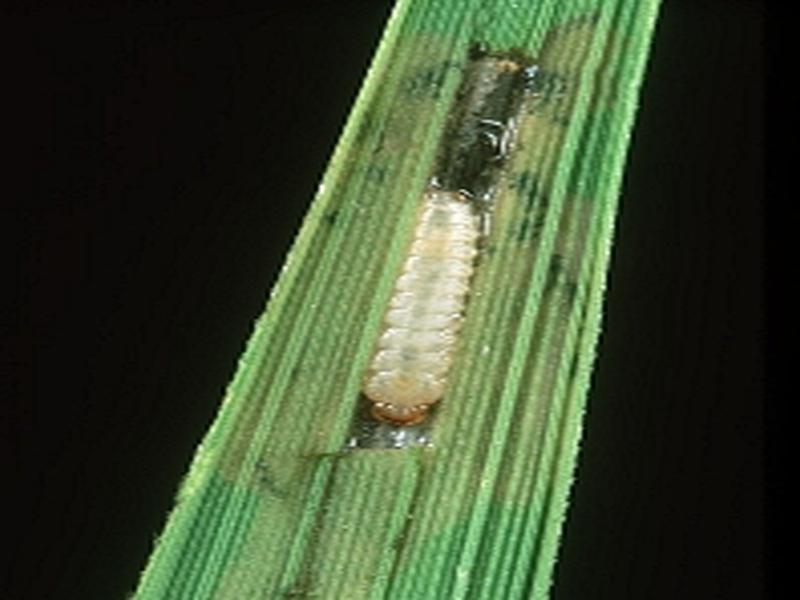Spiny_beetle: (347, 125, 502, 473)
